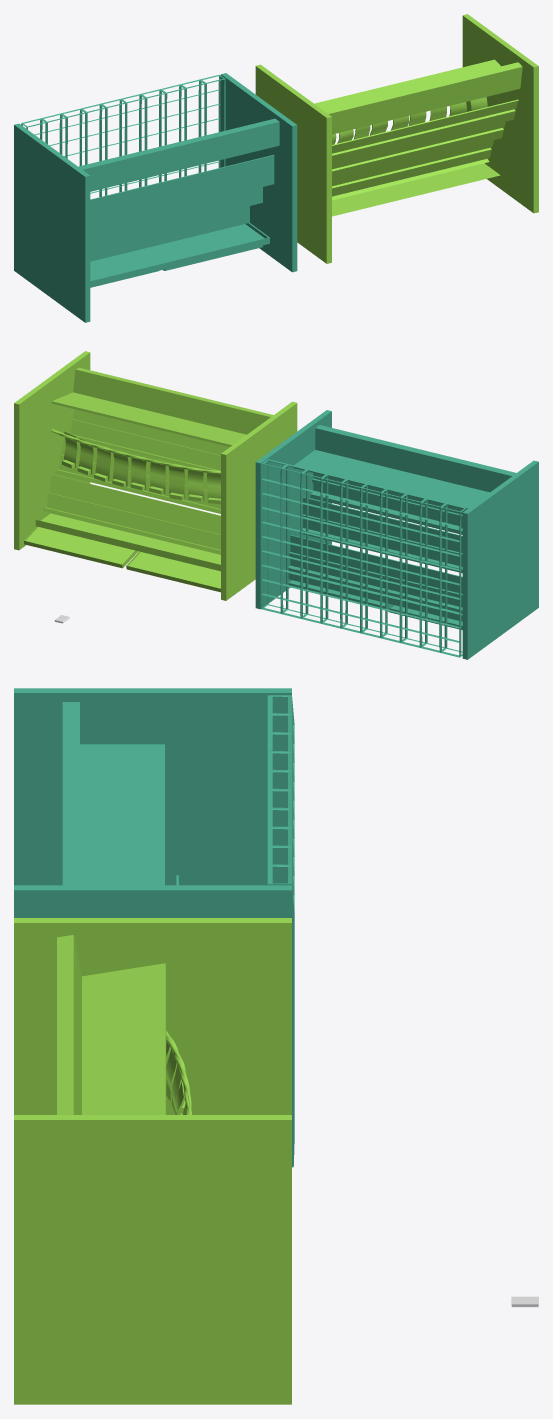
File: Kiosko hermano.fbx
The picture shows the model from 3 angles, top to bottom: view 1: azimuth 30°, elevation 25°; view 2: azimuth 150°, elevation 25°; view 3: azimuth 270°, elevation 25°; orthographic projection. The views are drawn at different scales.
Visible parts, largest first — view 1: Kiosko cerrado, Kiosko abierto, Kiosko abierto.002, reja, Kiosko abierto.001, carton; view 2: Kiosko cerrado, Kiosko abierto, Kiosko abierto.002, reja, carton, Kiosko abierto.001, cajotas de autitos, cuerda; view 3: Kiosko abierto, Kiosko cerrado, reja, carton.
Part boxes in pixels (<box>): Kiosko cerrado: <box>14,73,297,322</box>; Kiosko abierto: <box>255,14,538,263</box>; Kiosko abierto.002: <box>332,99,518,200</box>; reja: <box>21,74,225,197</box>; Kiosko abierto.001: <box>332,162,500,216</box>; carton: <box>332,97,487,144</box>; Kiosko cerrado: <box>255,410,538,659</box>; Kiosko abierto: <box>14,351,297,600</box>; Kiosko abierto.002: <box>24,409,229,592</box>; reja: <box>261,459,466,657</box>; carton: <box>64,432,220,500</box>; Kiosko abierto.001: <box>35,512,220,571</box>; cajotas de autitos: <box>62,459,220,504</box>; cuerda: <box>51,428,220,474</box>; Kiosko abierto: <box>14,918,291,1404</box>; Kiosko cerrado: <box>14,688,291,917</box>; reja: <box>267,695,294,1167</box>; carton: <box>166,1042,189,1114</box>.
Bounding box in the file's own units: 1315 × 406 × 676.
